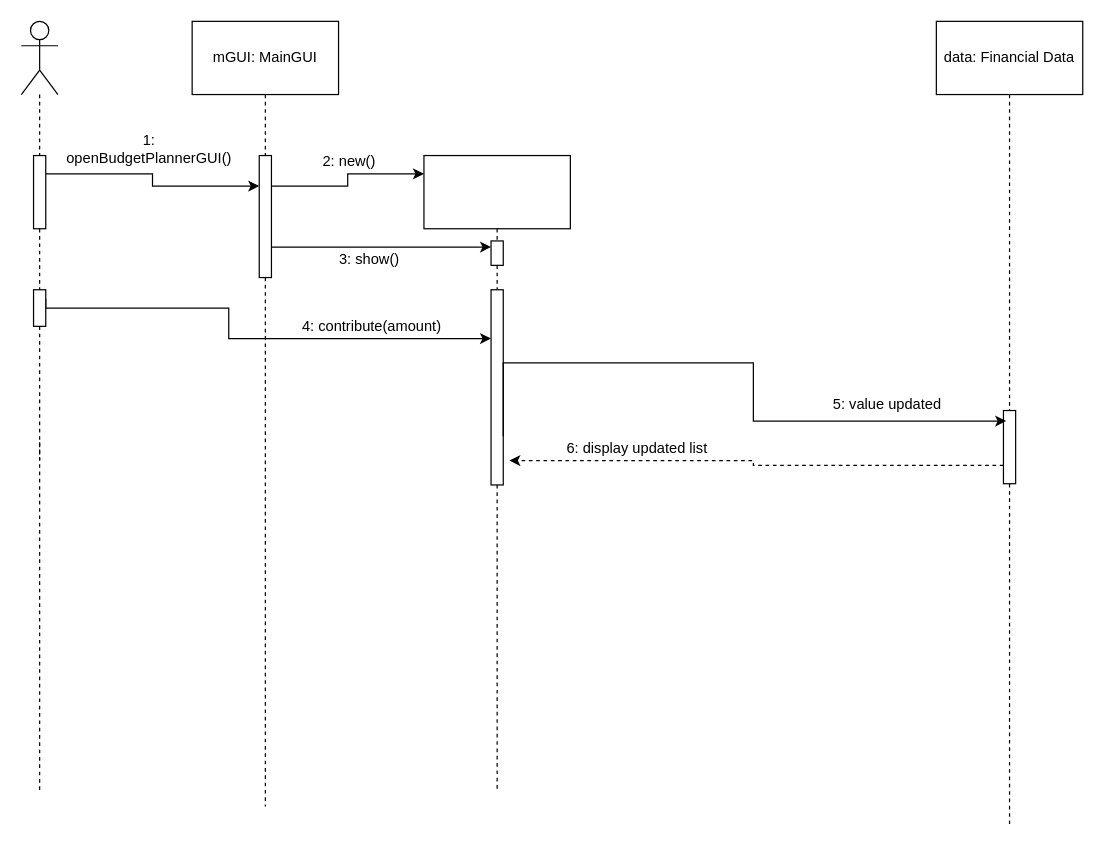
This 1104x849 diagram has some shape labels left out. The centre of each missing label's shape, as x and y in pixels:
"Actor" goes at [39,57].
"budgetGUI: BudgetPlannerGUI" goes at [496,191].
